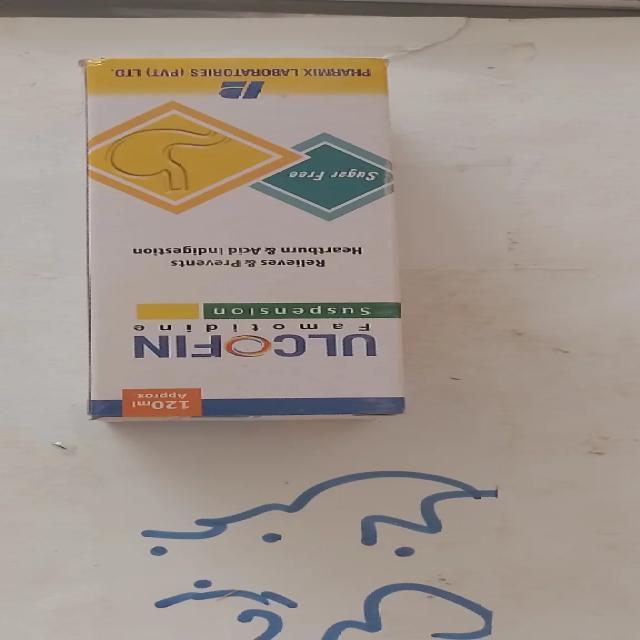drug-name: (128, 336, 378, 358)
